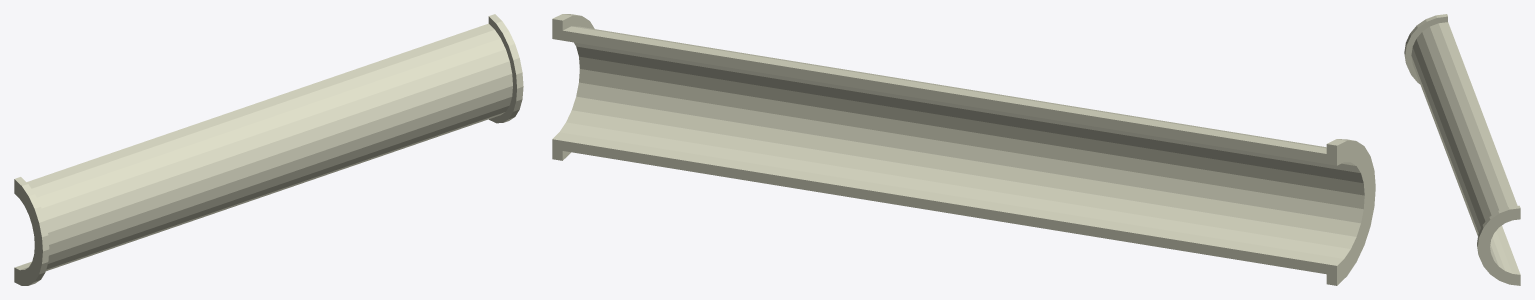
The model's file is section_430.obj.
The picture shows the model from 3 angles, left to right: view 1: azimuth 30°, elevation 25°; view 2: azimuth 150°, elevation 25°; view 3: azimuth 270°, elevation 25°; orthographic projection. The views are drawn at different scales.
Size of the model in its own units: 75.04 by 14 by 19.
